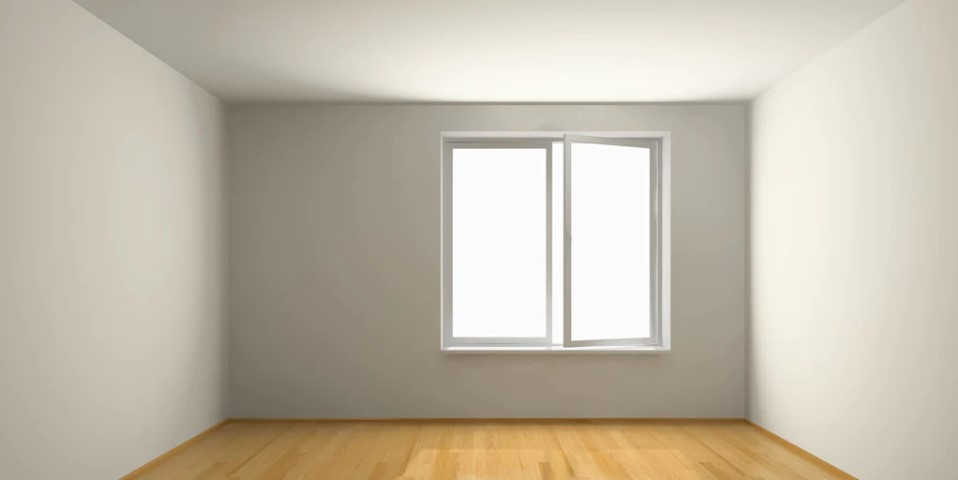wall: (226, 105, 747, 422), (1, 1, 225, 479), (748, 1, 958, 479)
window: (442, 131, 672, 351)
